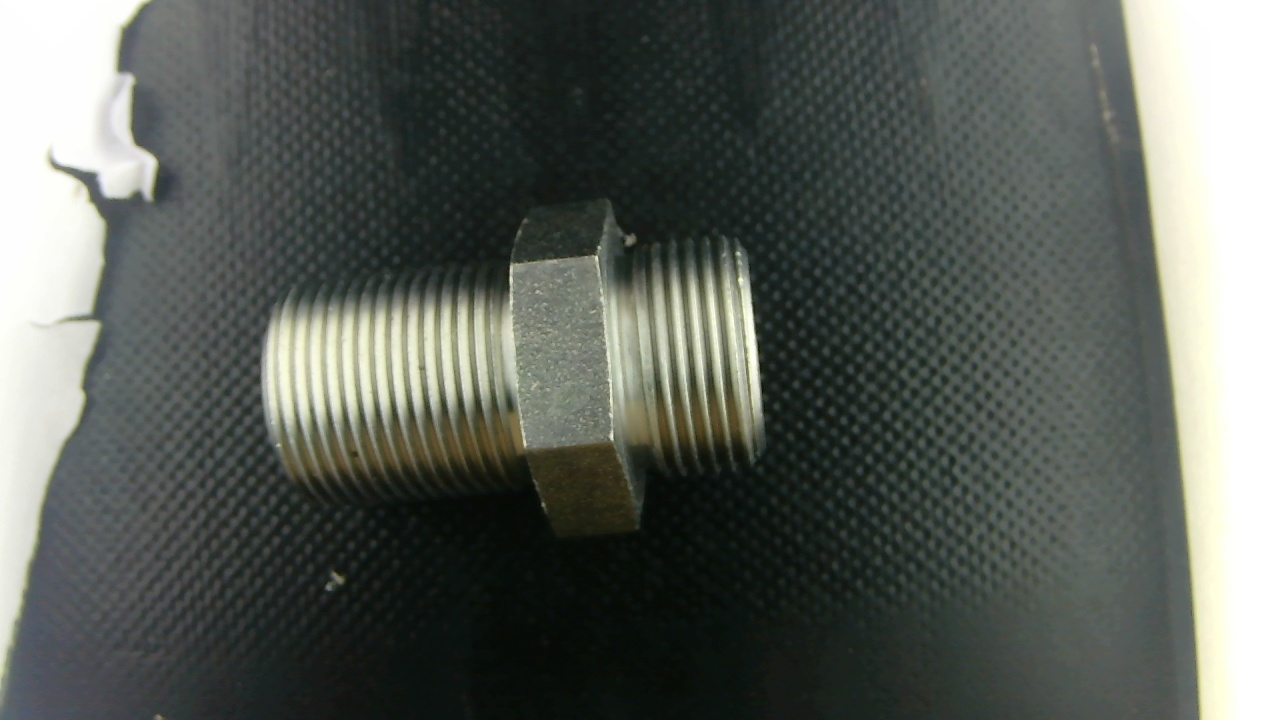okay_adapter: (263, 200, 763, 536)
